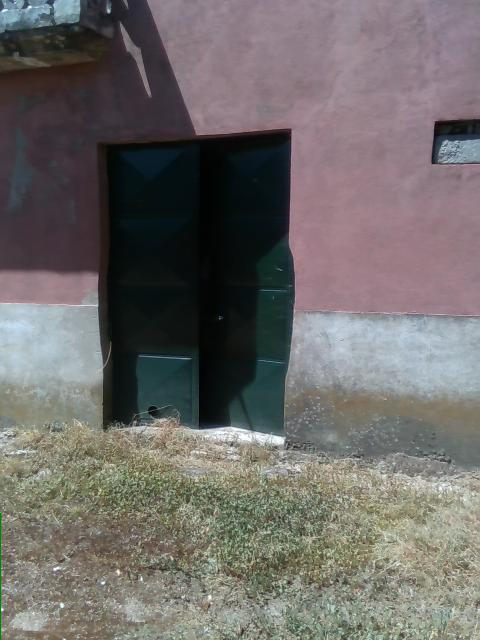door: (98, 130, 290, 441)
